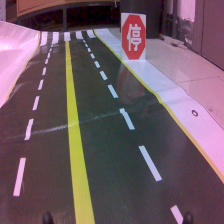stop: (120, 12, 148, 63)
